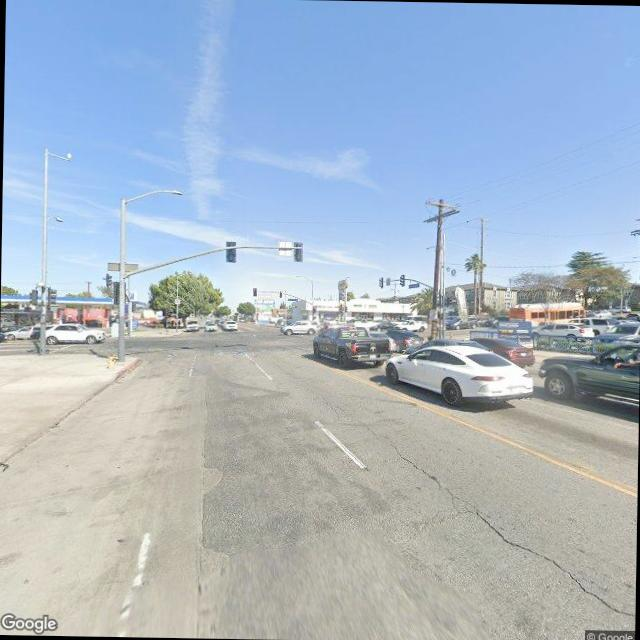pothole: (356, 420, 630, 610)
